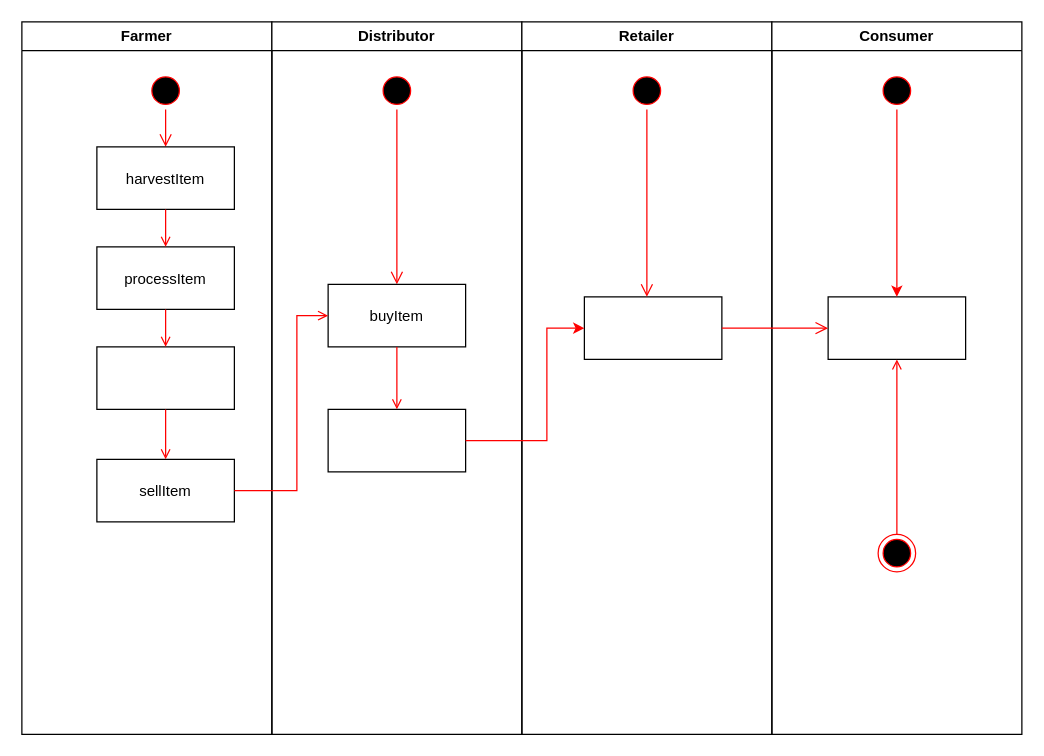
This 1044x756 diagram has some shape labels left out. Each missing label, with the centre of its shape:
"packItem" goes at (x=165, y=377).
"purchaseItem" goes at (x=896, y=327).
"receiveItem" goes at (x=652, y=327).
"shipItem" goes at (x=396, y=440).
